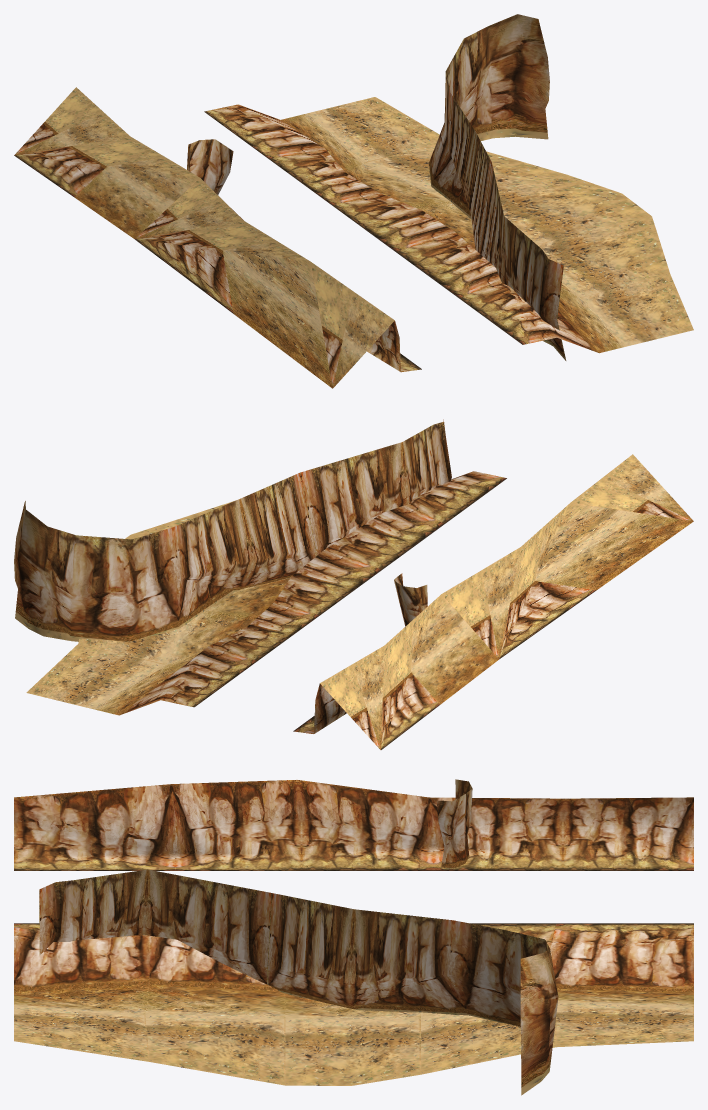
Rendered from us_cany_mid_04.fbx.
3 renders of one model, top to bottom at view 1: azimuth 30°, elevation 25°; view 2: azimuth 150°, elevation 25°; view 3: azimuth 270°, elevation 25°, orthographic. The views are drawn at different scales.
Visible parts, largest first — view 1: us_cany_mid_04; view 2: us_cany_mid_04; view 3: us_cany_mid_04.
Boxes of the visible parts, <box> form: us_cany_mid_04: <box>14,14,693,388</box>; us_cany_mid_04: <box>14,419,693,749</box>; us_cany_mid_04: <box>14,779,693,1095</box>.
Bounding box in the file's own units: 8238 × 2242 × 10000.
